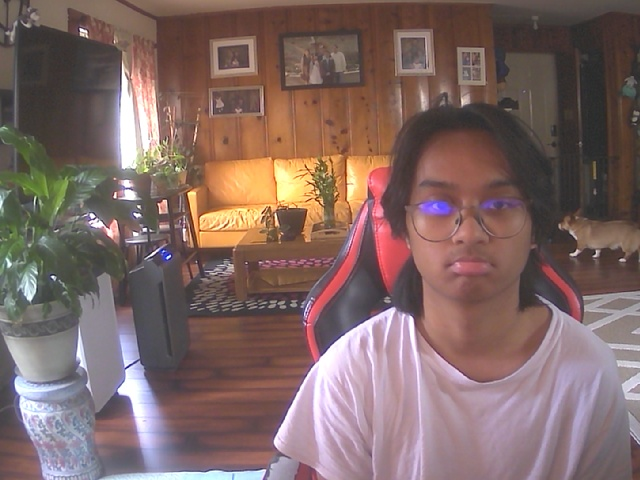sad: (406, 119, 539, 301)
